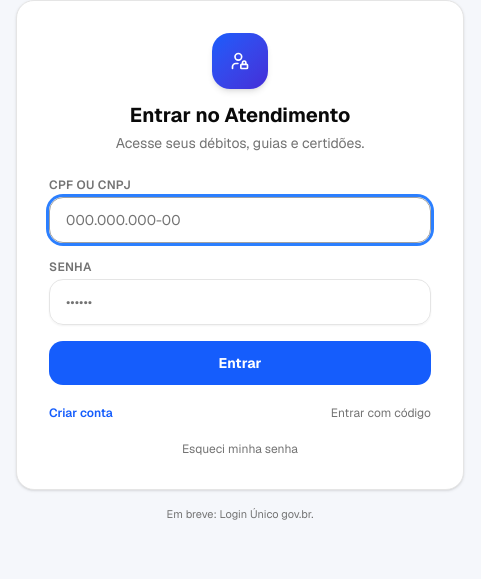
Test: EntrarForm › mostra a mensagem de erro da API quando o login por senha falha
Type "123.456.789-00" into the field with placeholder "000.000.000-00" at (240, 220), box [49,197,431,243]
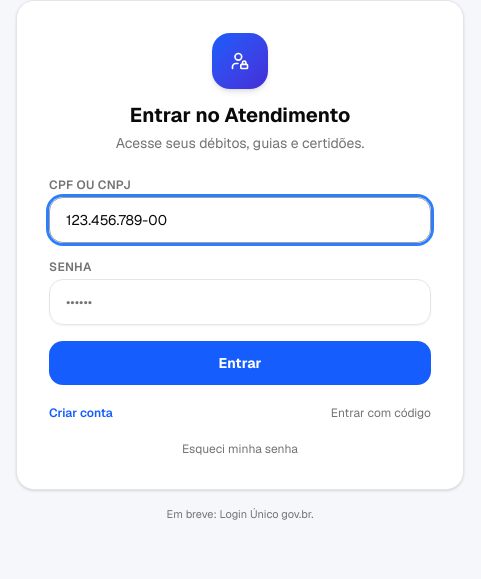
Type "senha-errada" into the password field with placeholder "••••••" at (240, 302), box [49,279,431,325]
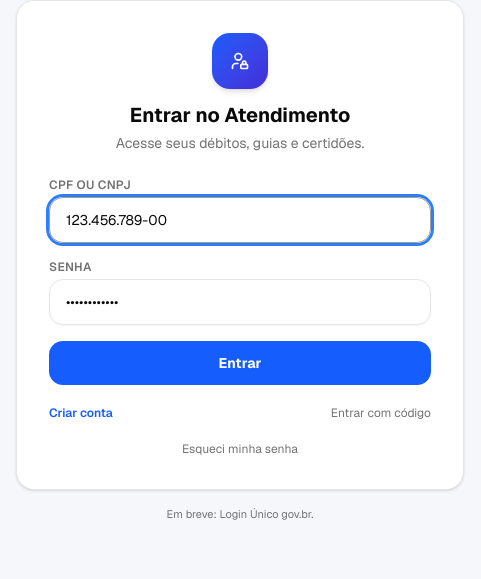
Click the button "Entrar" at (240, 363), box [49,341,431,385]
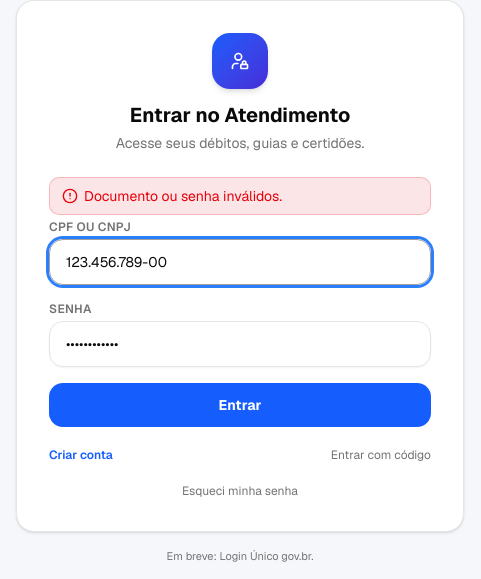
Now the message reads "Documento ou senha inválidos.", box [84,187,282,205]
